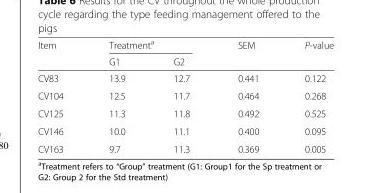table: (37, 37, 333, 154)
table column: (213, 37, 281, 154), (148, 37, 213, 154), (85, 37, 148, 154), (281, 37, 333, 154), (37, 37, 85, 154)
table column header: (37, 37, 333, 69)
table row: (37, 86, 333, 104), (37, 104, 333, 122), (37, 52, 333, 69), (37, 69, 333, 86), (37, 122, 333, 139), (37, 37, 333, 52), (37, 139, 333, 154)
table spanning cell: (213, 37, 281, 69), (85, 37, 213, 52), (281, 37, 333, 69), (37, 37, 85, 69)
